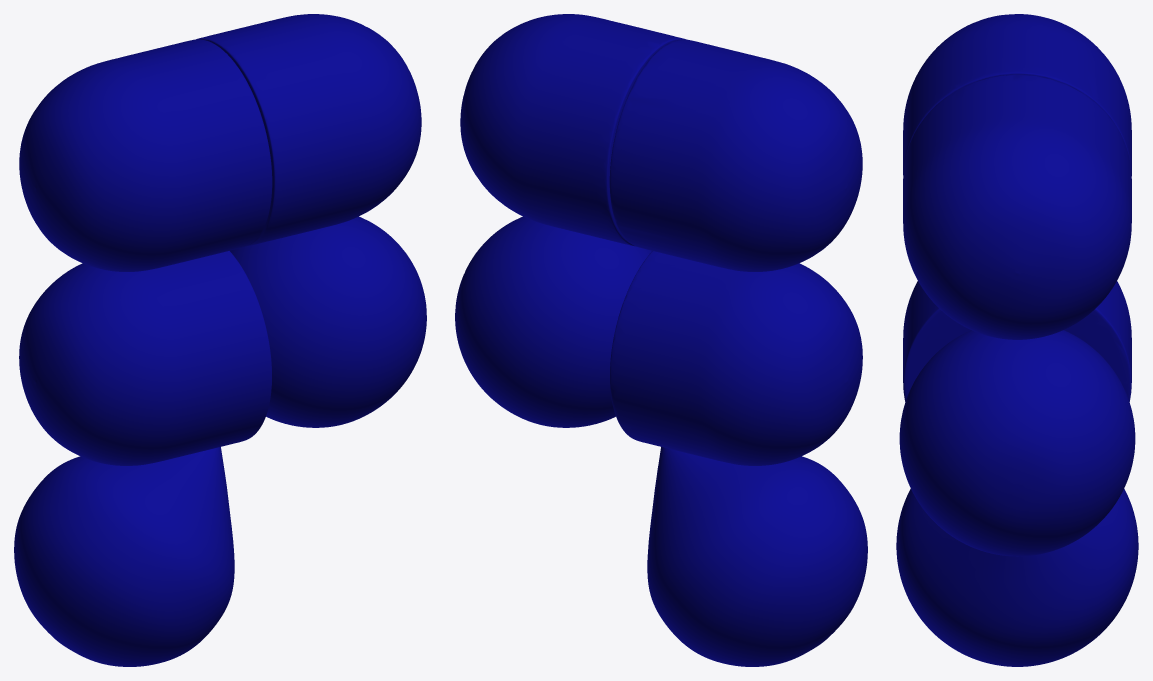
File: figma.glb
3 renders of one model, left to right at view 1: azimuth 30°, elevation 25°; view 2: azimuth 150°, elevation 25°; view 3: azimuth 270°, elevation 25°, orthographic. The views are drawn at different scales.
Parts seen in each view (by area): view 1: Cylinder.006; view 2: Cylinder.006; view 3: Cylinder.006.
Part boxes in pixels (x1,y1,x2,y2): Cylinder.006: (14, 14, 426, 666); Cylinder.006: (455, 14, 867, 666); Cylinder.006: (896, 14, 1138, 666).
Size of the model in its own units: 1.3 by 1.91 by 0.6666.
